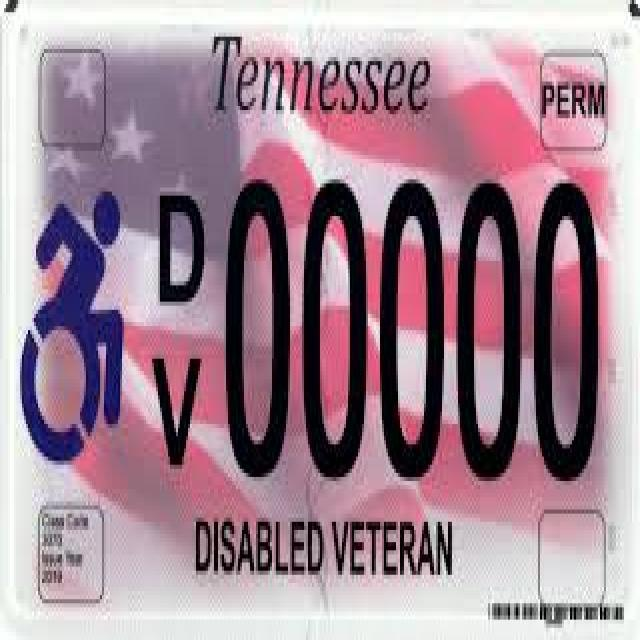symbol_of_access: (23, 190, 122, 465)
